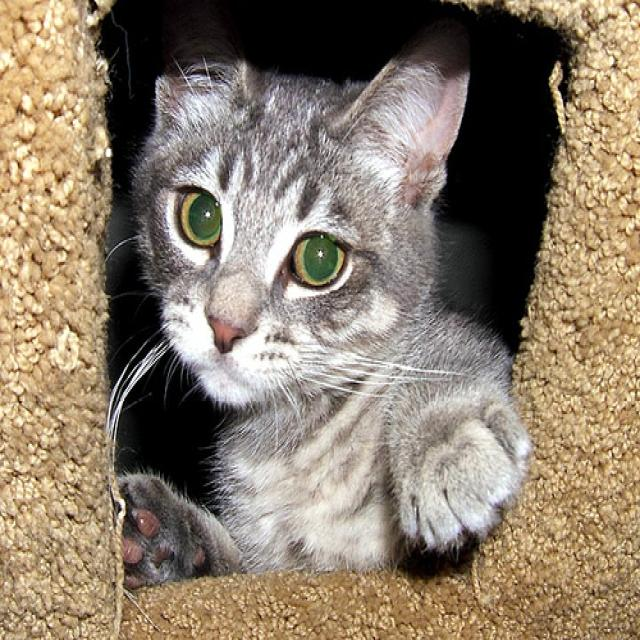left eye: (285, 226, 352, 293)
